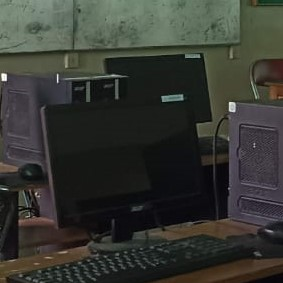monitor: (40, 100, 206, 235), (103, 53, 213, 125), (227, 99, 283, 227)
